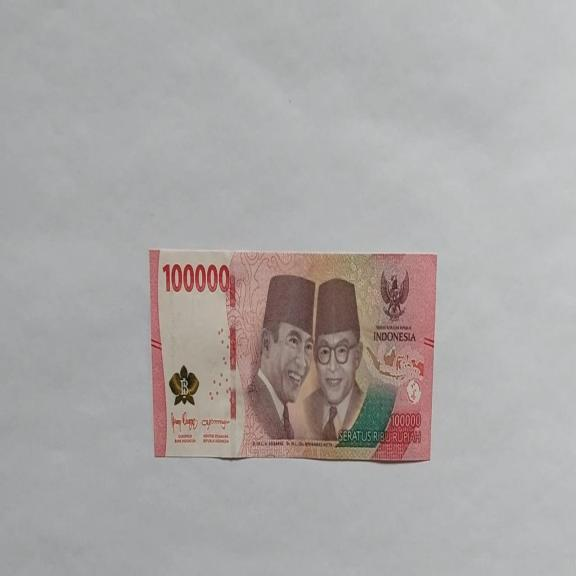Kertas: (149, 248, 437, 462), (161, 260, 231, 294)
